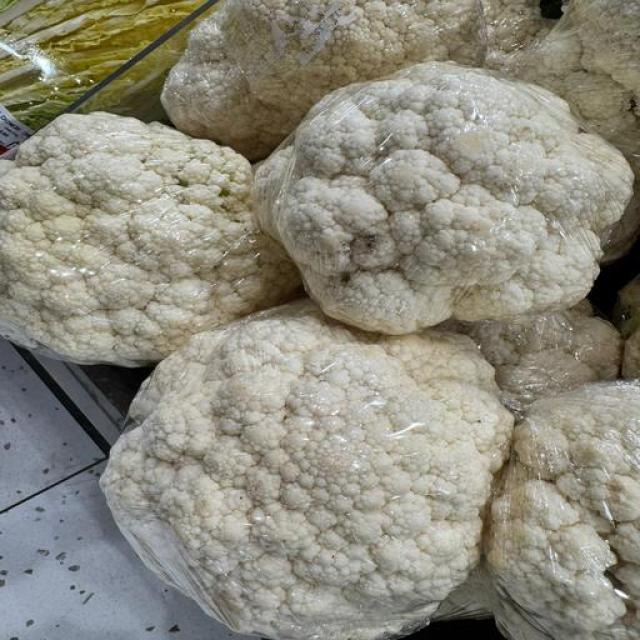organic: (2, 1, 639, 640), (0, 0, 202, 129), (0, 0, 17, 11)
